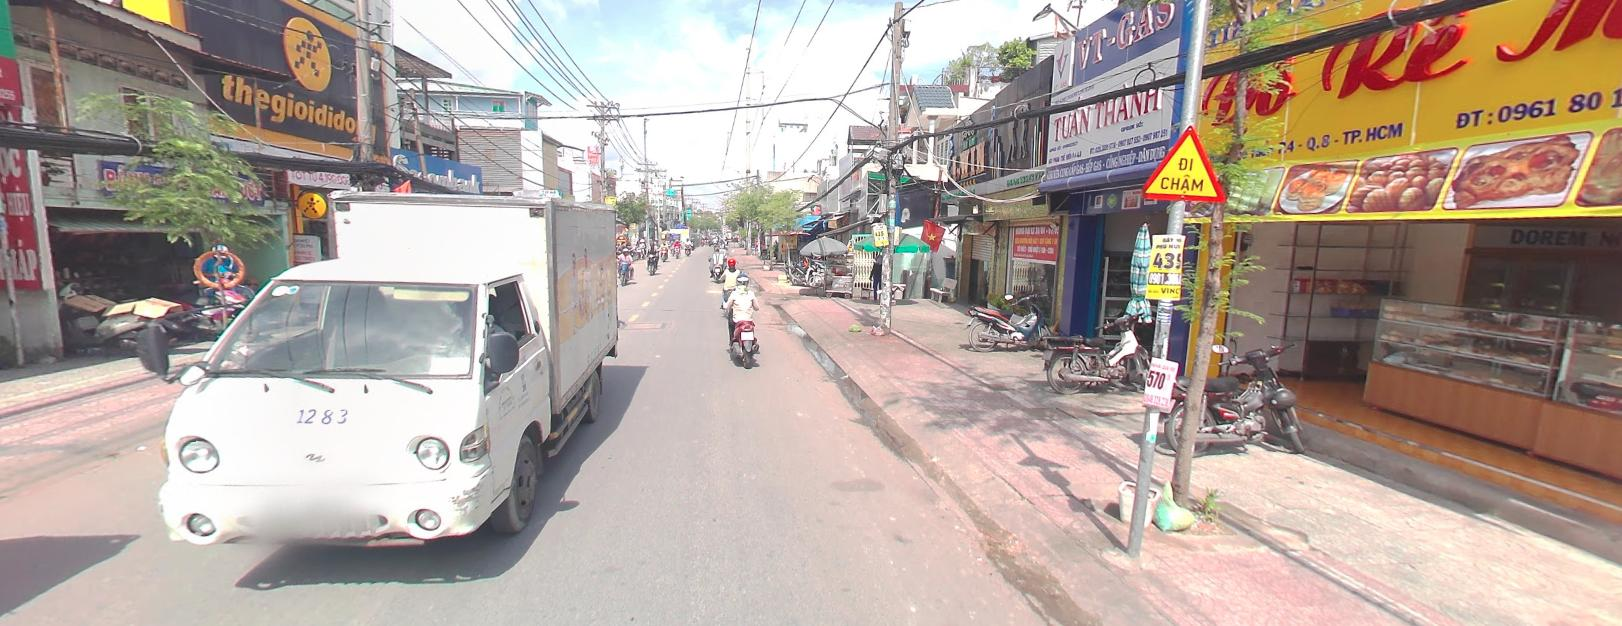Nguy hiem: (1141, 118, 1227, 202), (1143, 124, 1225, 201), (1142, 125, 1226, 200), (1147, 126, 1223, 200)
